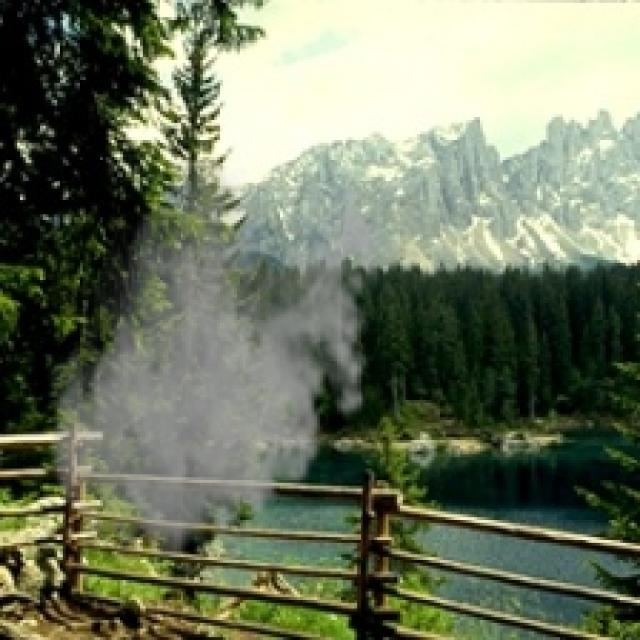smoke: (43, 157, 388, 574)
